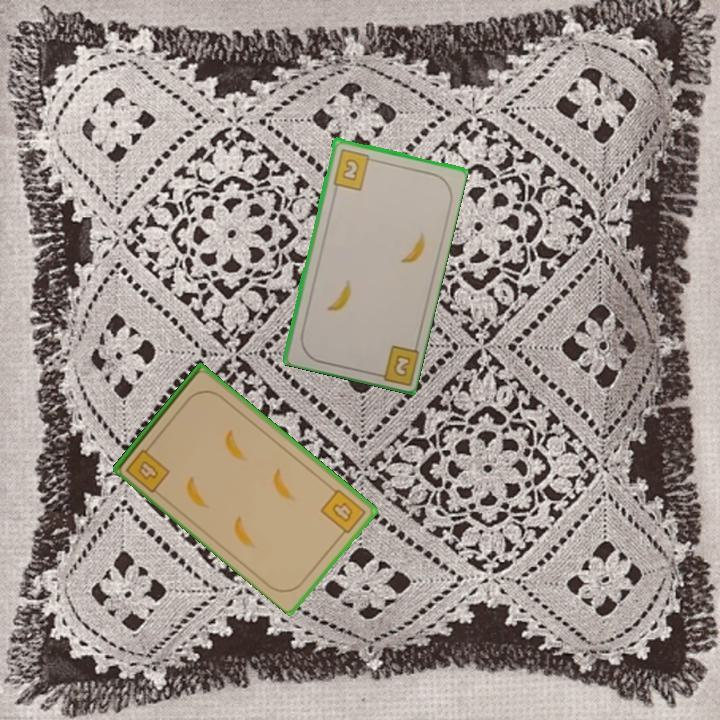2b: (329, 145, 377, 193), (369, 341, 420, 386)
4b: (317, 485, 369, 540), (122, 439, 173, 495)
